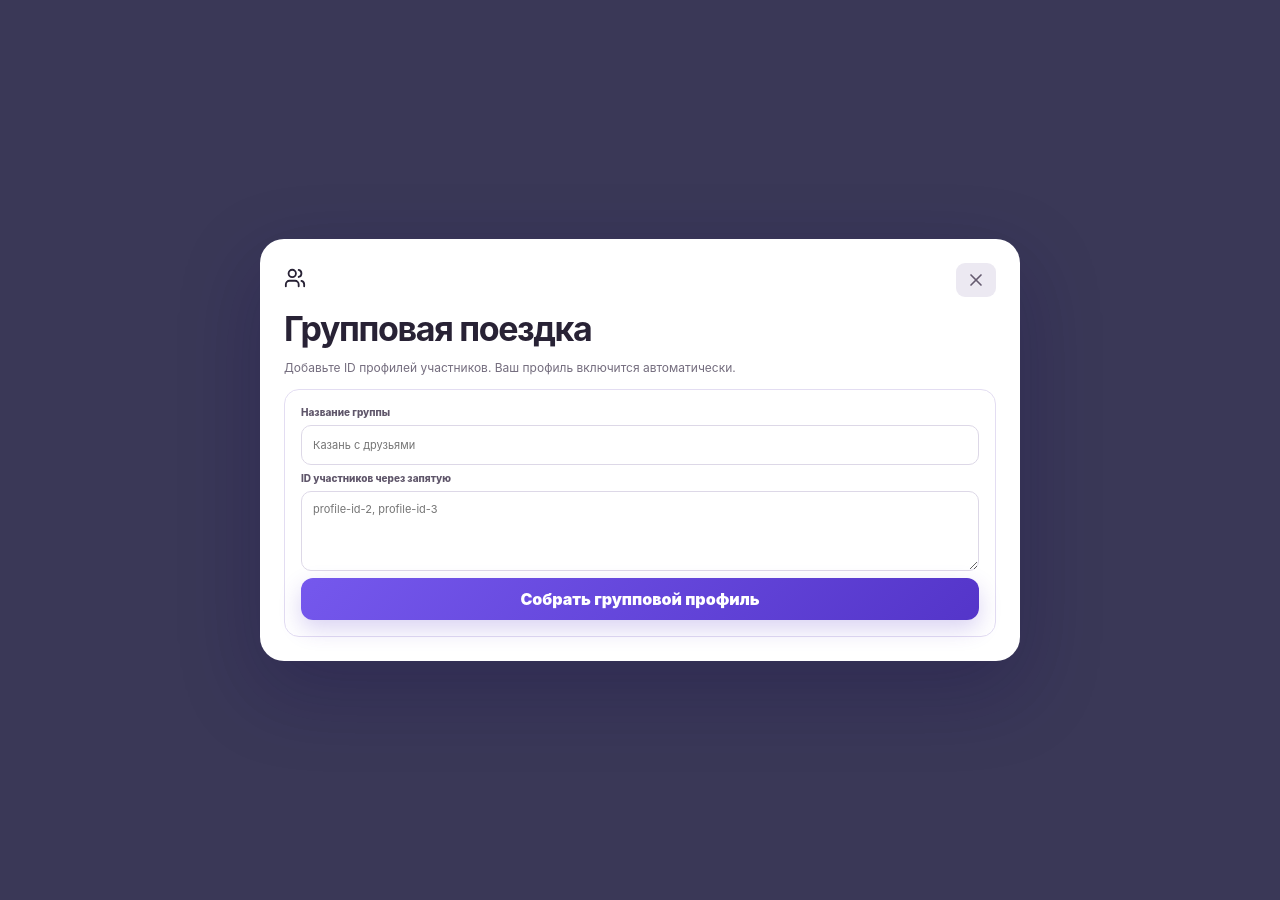
Test case: builds a virtual group profile and shows conflicts
Step 1. Type "Друзья" into the field labelled "Название группы" → coordinates (640, 446), box [301,426,979,466]
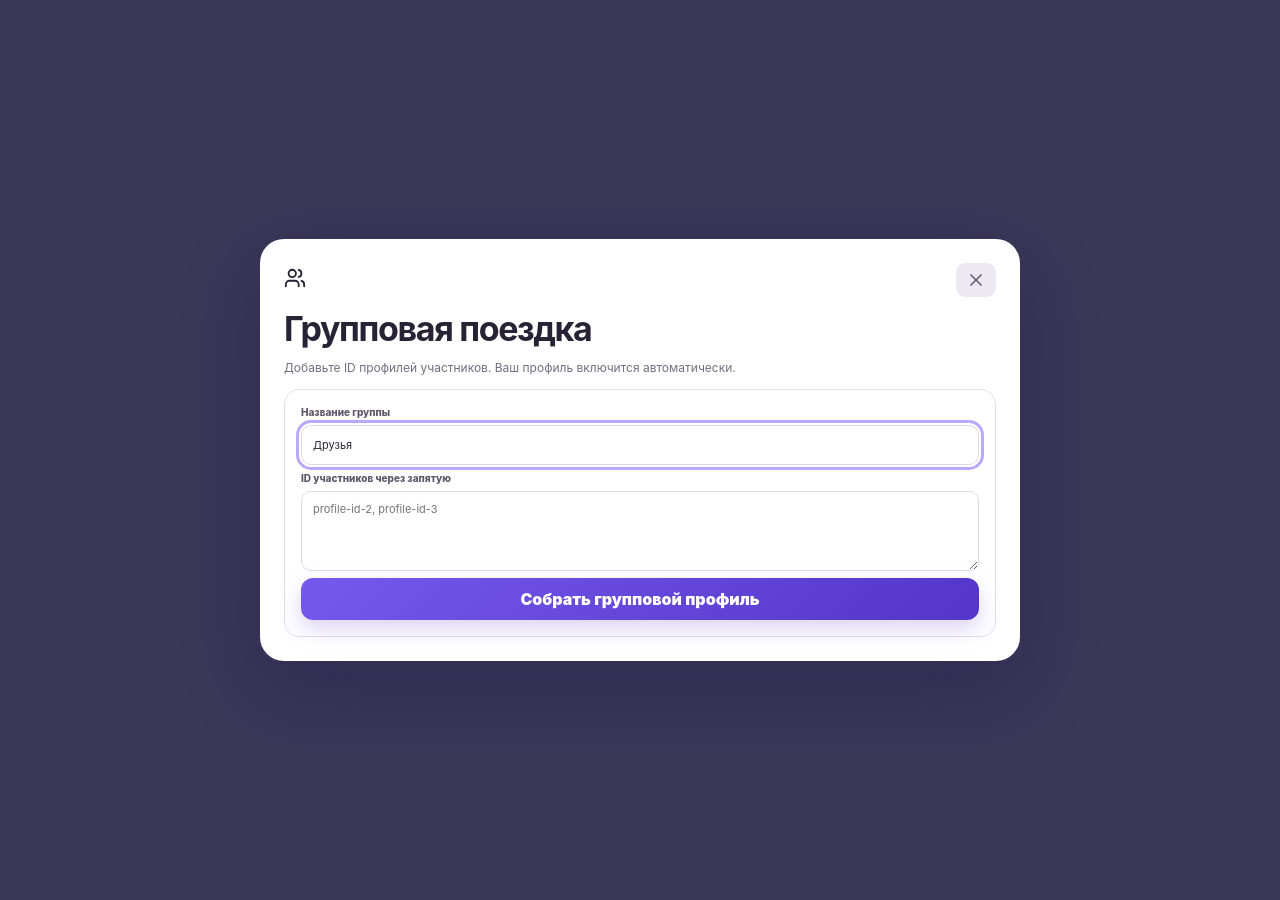
Step 2. Type "profile-2" into the text box labelled "ID участников через запятую" → coordinates (640, 532), box [301,492,979,572]
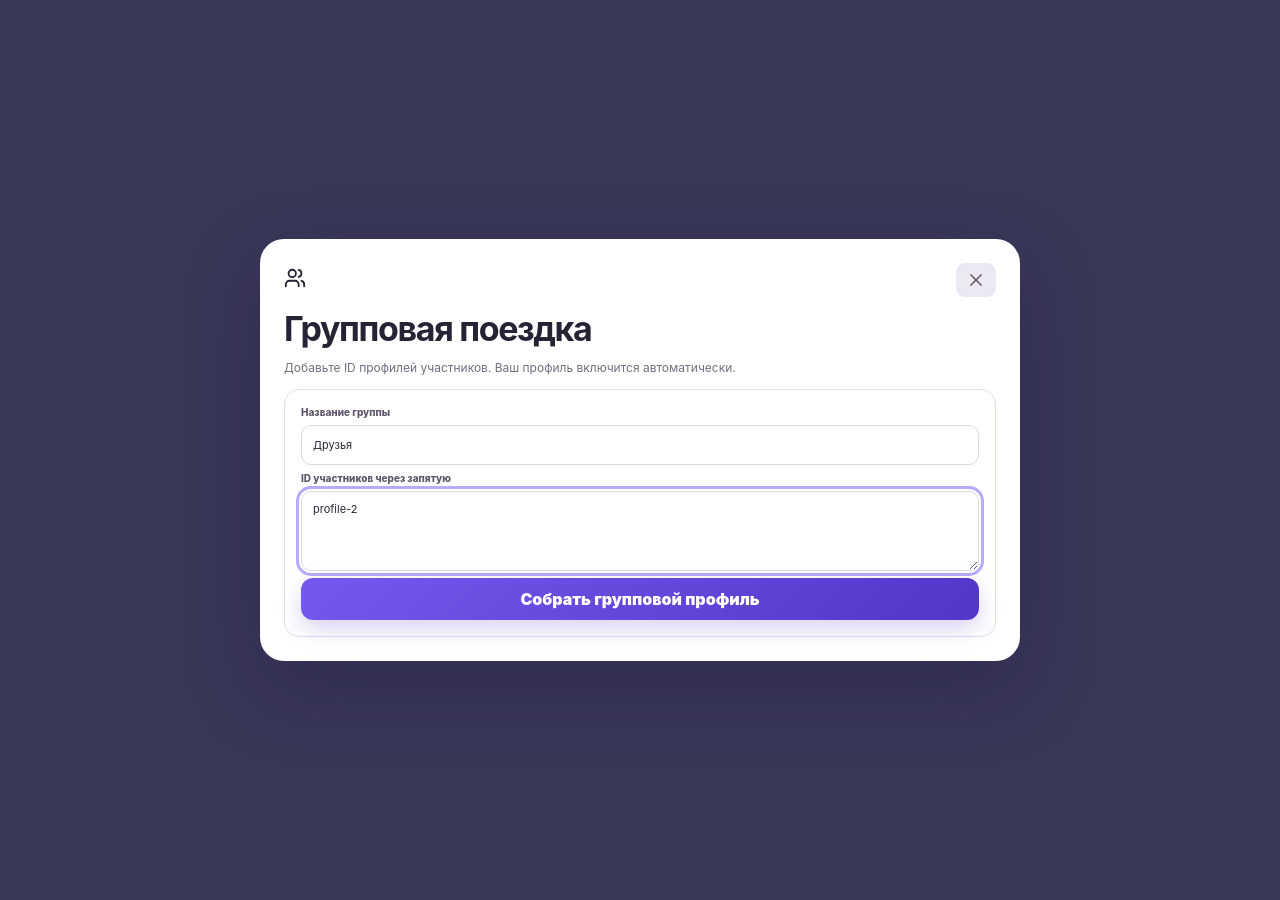
Step 3. Click the button "Собрать групповой профиль" → coordinates (640, 600), box [301,578,979,620]
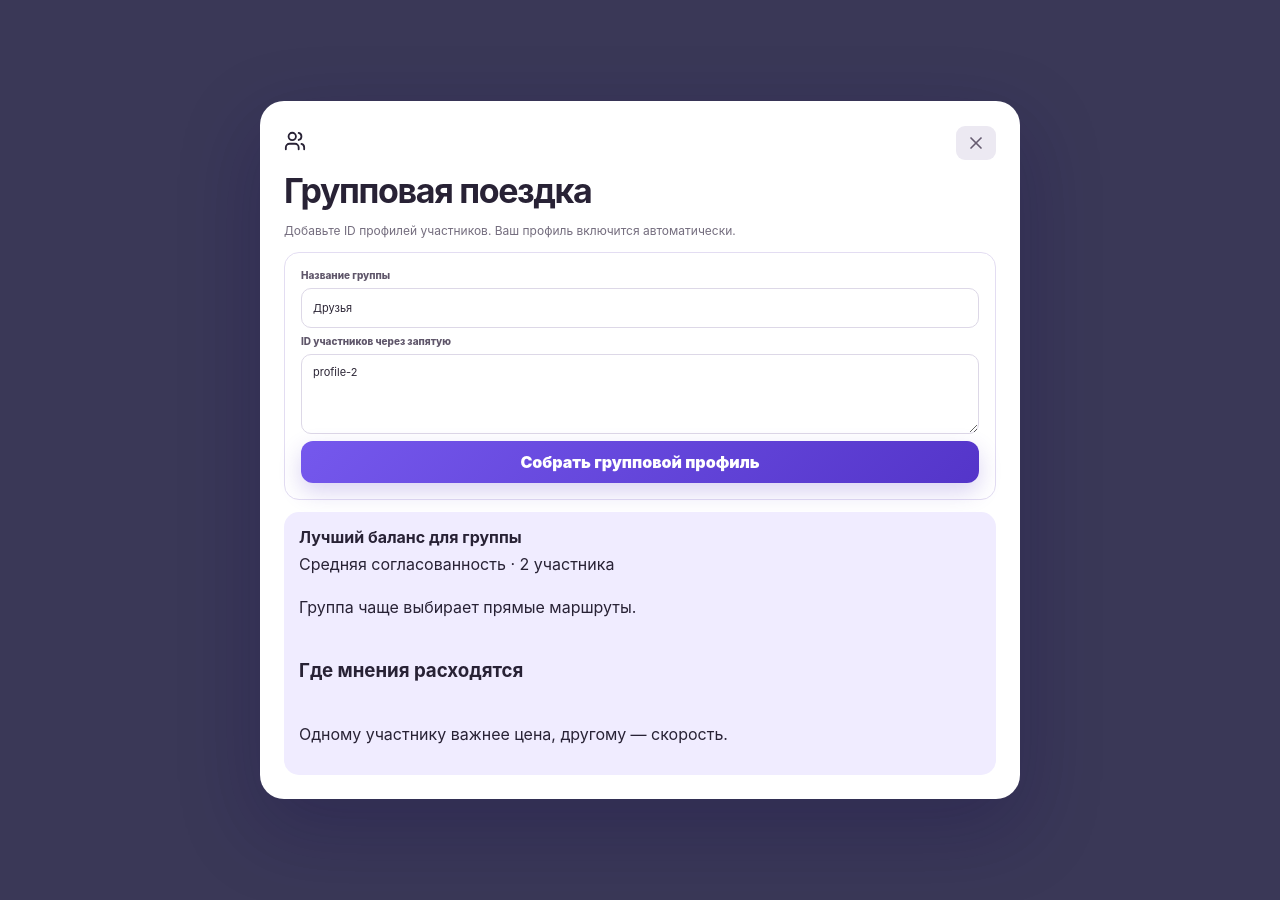
expect the text "Лучший баланс для группы" is shown: met, box [299,527,522,547]
expect the text "Средняя согласованность · 2 участника" is shown: met, box [299,554,614,574]
expect the text "Одному участнику важнее цена, другому — скорость." is shown: met, box [299,724,728,744]
